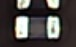COMP: (10, 13, 64, 42)
GAP: (15, 1, 60, 19)
